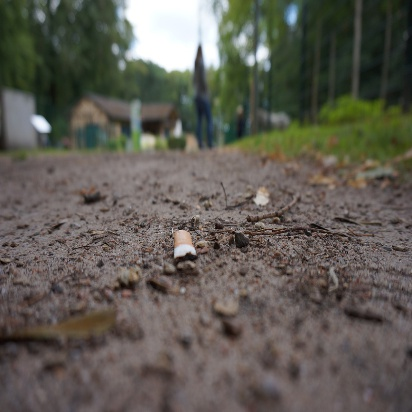cigarette: (165, 221, 203, 279)
